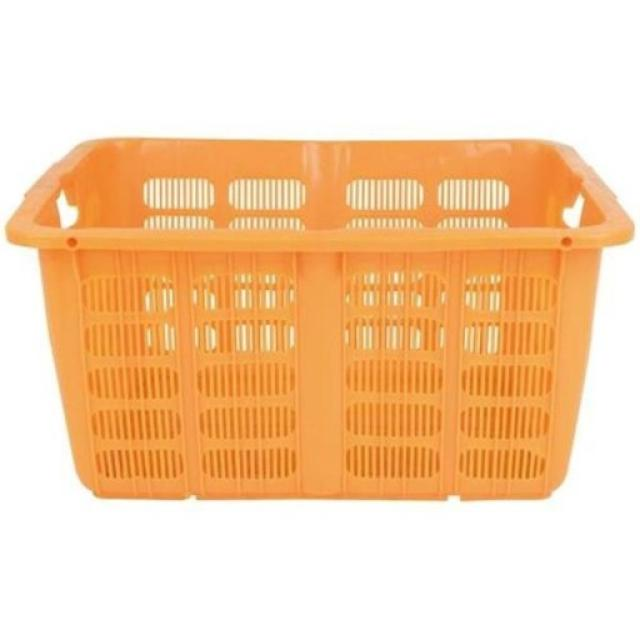basket: (5, 138, 635, 501)
